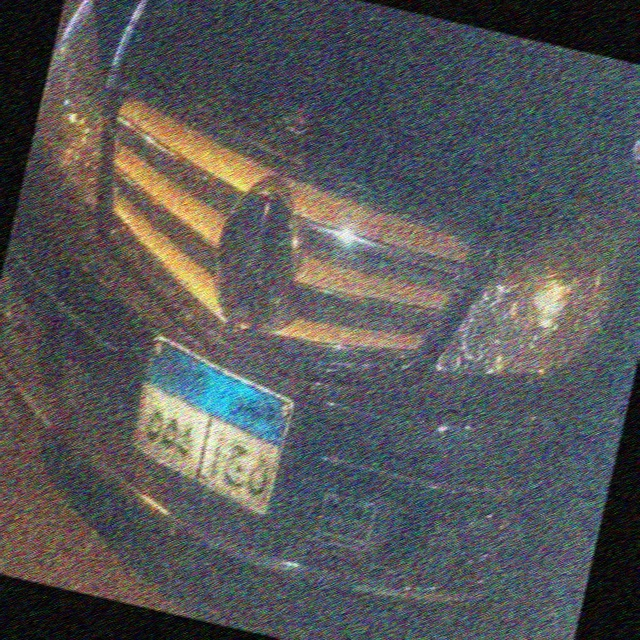License Plate: (115, 327, 306, 528)
